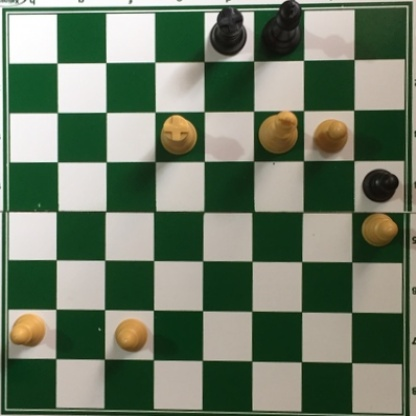black-king: (261, 1, 303, 57)
black-pawn: (361, 165, 399, 204)
black-rook: (210, 1, 248, 57)
white-king: (255, 108, 299, 155)
white-pawn: (112, 316, 150, 353), (360, 212, 400, 247), (7, 310, 47, 345), (312, 118, 349, 154)
white-rook: (158, 110, 199, 156)
